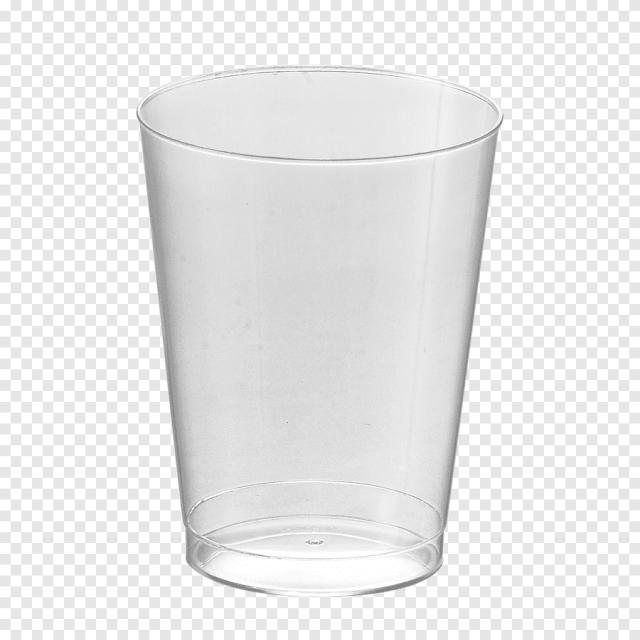Gelas: (105, 41, 524, 612)
